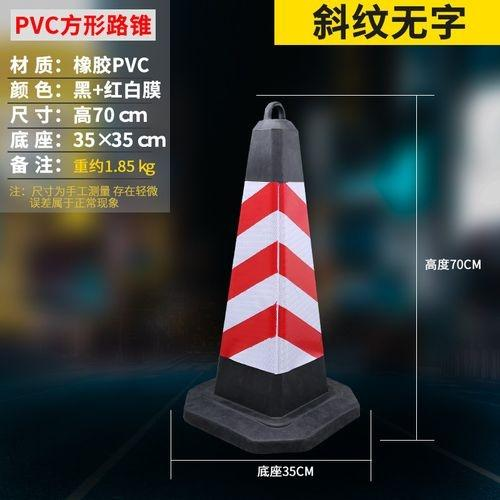cone_barrel: (199, 110, 350, 434)
